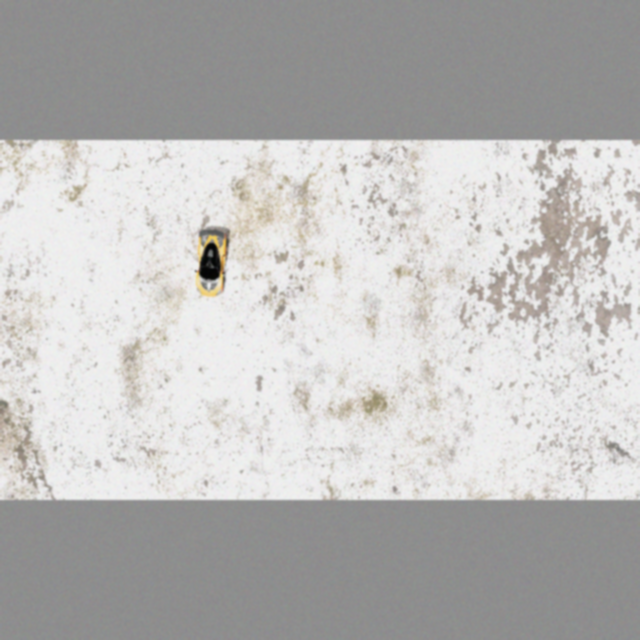car: (191, 228, 230, 298)
